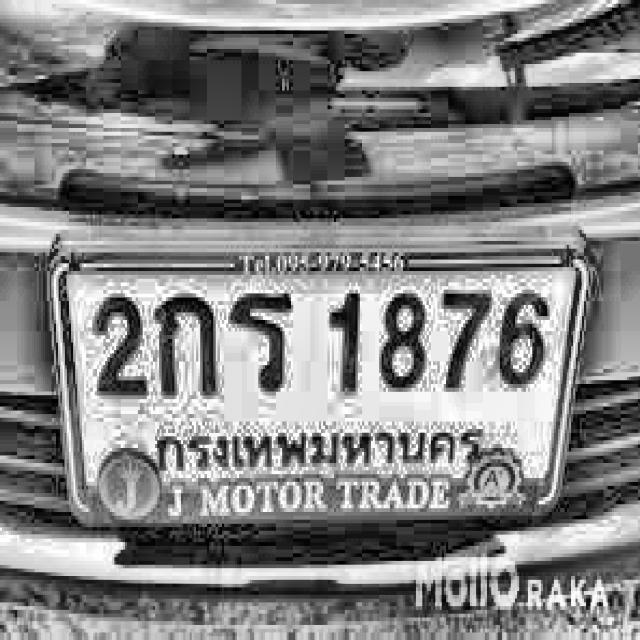license-plate: (48, 224, 600, 532)
